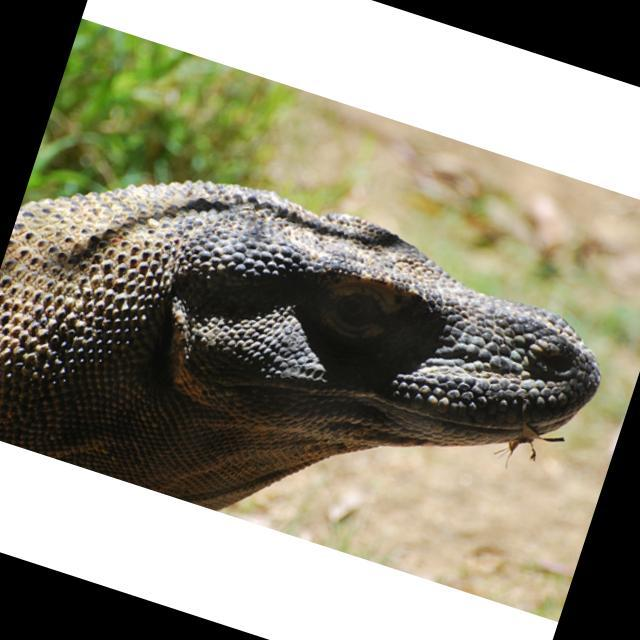KomodoDragon: (0, 112, 631, 609)
